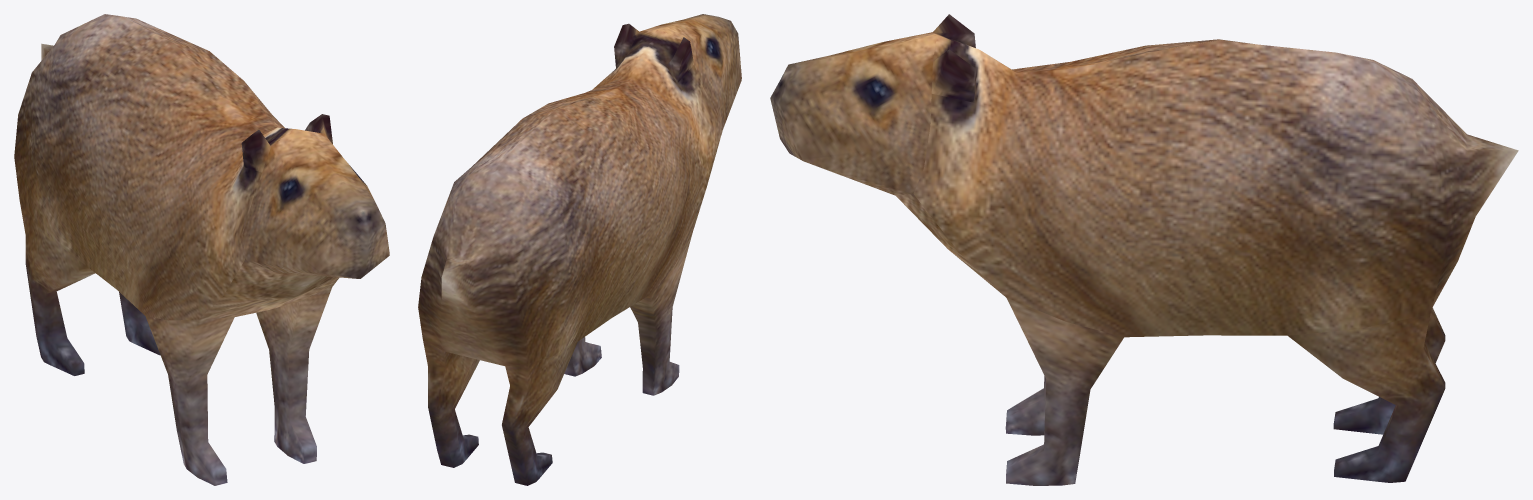
The model's file is cabbberr3r.gltf.
3 renders of one model, left to right at view 1: azimuth 30°, elevation 25°; view 2: azimuth 150°, elevation 25°; view 3: azimuth 270°, elevation 25°, orthographic. The views are drawn at different scales.
Parts seen in each view (by area): view 1: Plane; view 2: Plane; view 3: Plane.
Boxes of the visible parts, left/top/right/bottom form: Plane: left=14, top=14, right=389, bottom=485; Plane: left=418, top=14, right=741, bottom=485; Plane: left=770, top=14, right=1518, bottom=485.
Bounding box in the file's own units: 0.3813 × 0.8214 × 1.32.
1 material, 1 textured.
